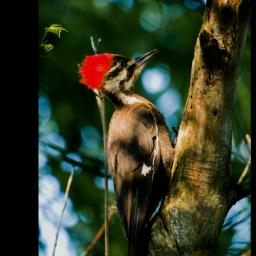Woodpecker: (78, 46, 185, 256)
